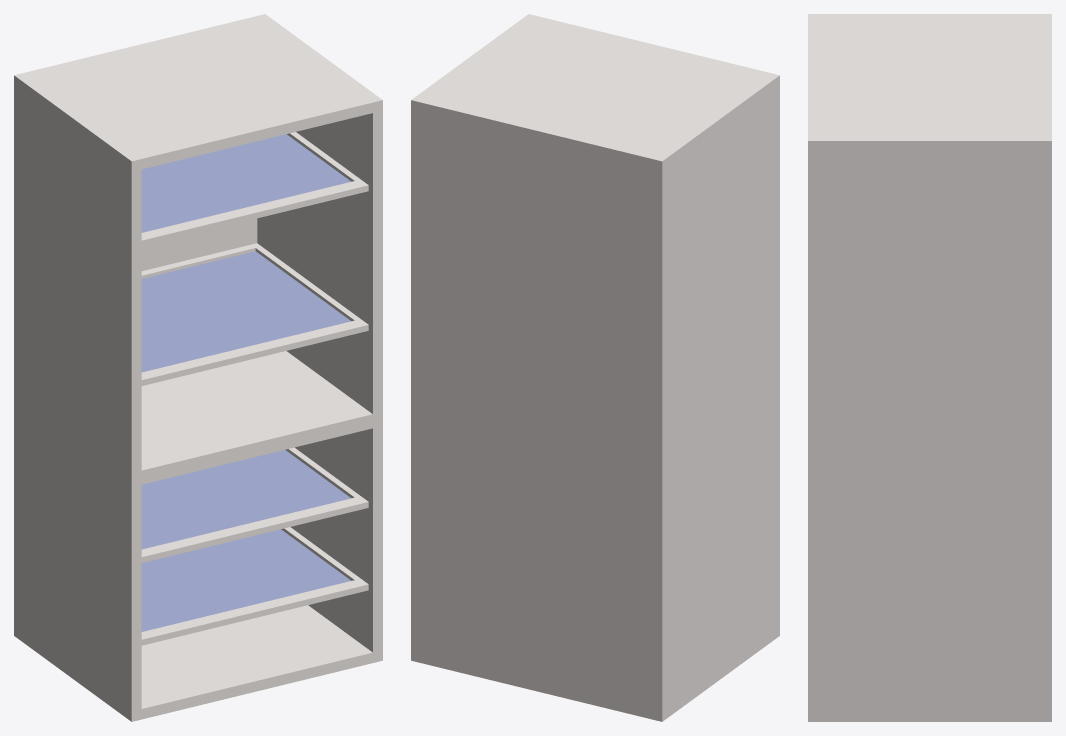
The model's file is Fridge_01.fbx.
3 renders of one model, left to right at view 1: azimuth 30°, elevation 25°; view 2: azimuth 150°, elevation 25°; view 3: azimuth 270°, elevation 25°, orthographic. The views are drawn at different scales.
Parts seen in each view (by area): view 1: Fridge_01; view 2: Fridge_01; view 3: Fridge_01.
Boxes of the visible parts, left/top/right/bottom form: Fridge_01: left=14, top=14, right=382, bottom=721; Fridge_01: left=411, top=14, right=779, bottom=721; Fridge_01: left=808, top=14, right=1051, bottom=721.
Bounding box in the file's own units: 94.13 × 201 × 76.37.
